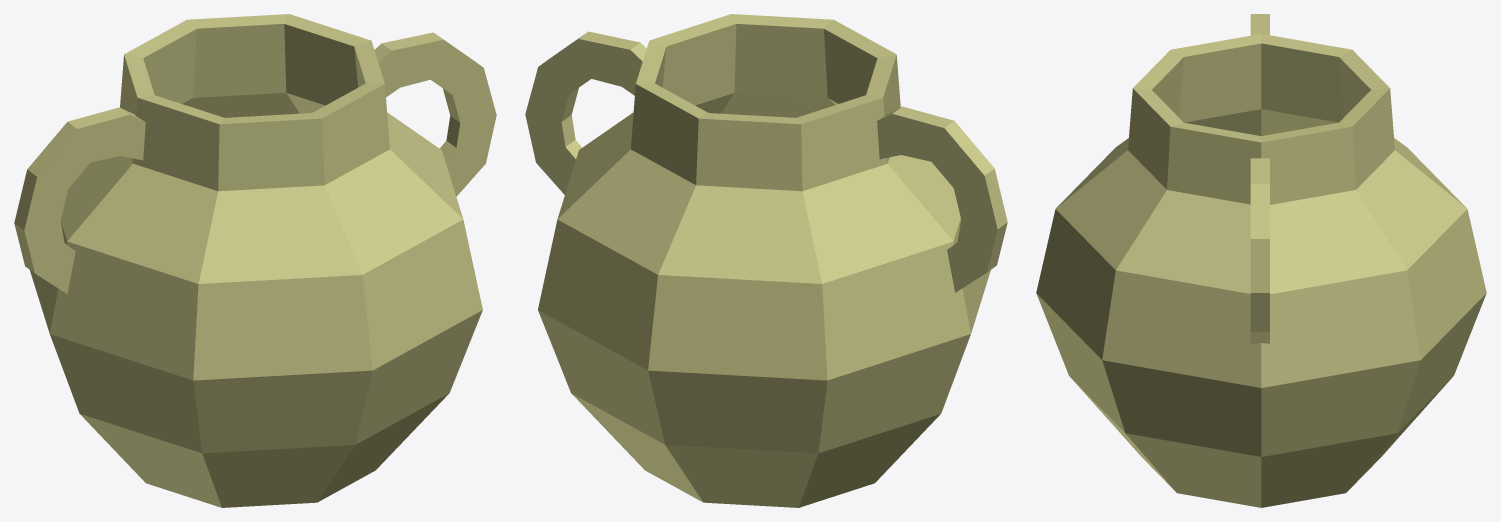
Rendered from pot_Decoration_01.fbx.
The picture shows the model from 3 angles, left to right: view 1: azimuth 30°, elevation 25°; view 2: azimuth 150°, elevation 25°; view 3: azimuth 270°, elevation 25°; orthographic projection. The views are drawn at different scales.
Parts seen in each view (by area): view 1: Pot_01; view 2: Pot_01; view 3: Pot_01.
Boxes of the visible parts, x1,y1,x2,y2 form: Pot_01: [14, 14, 496, 507]; Pot_01: [525, 14, 1007, 507]; Pot_01: [1036, 14, 1486, 507].
Size of the model in its own units: 34.27 by 26.87 by 29.72.
